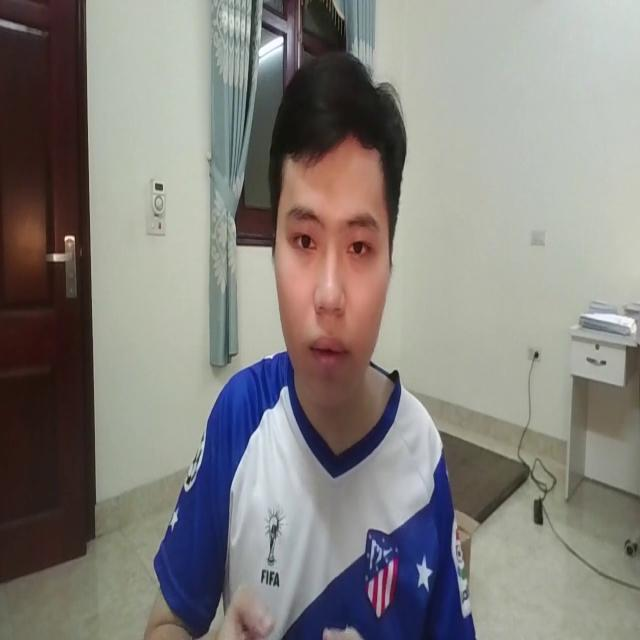student: (130, 46, 494, 640)
